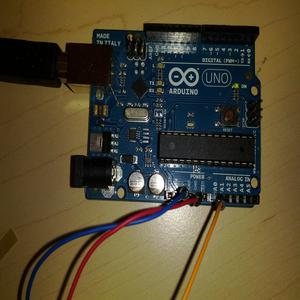duino: (73, 14, 260, 206)
